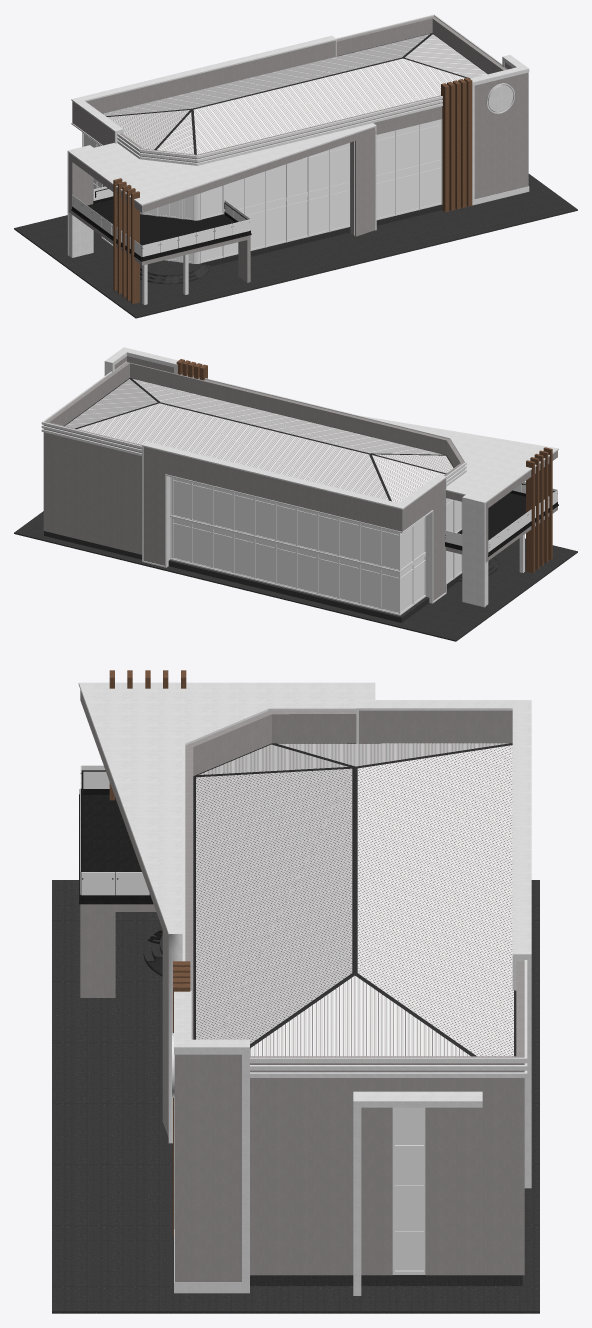
The model's file is restaurant.glb.
3 renders of one model, top to bottom at view 1: azimuth 30°, elevation 25°; view 2: azimuth 150°, elevation 25°; view 3: azimuth 270°, elevation 25°, orthographic. The views are drawn at different scales.
Visible parts, largest first — view 1: base, roof.001, glass, walls.007, walls, walls.005, walls.004, window, roof.002, wood, walls.002, wood.001 (+11 smaller); view 2: glass, roof.001, walls, walls.007, walls.004, walls.006, base, window, roof.002, wood.001, base.002, walls.002 (+7 smaller); view 3: roof.001, base, walls.006, walls, walls.004, walls.005, roof.002, walls.007, walls.002, walls.001, roof, glass (+6 smaller).
Boxes of the visible parts, x1,y1,x2,y2 form: base: (14, 174, 577, 318); roof.001: (103, 34, 464, 154); glass: (84, 125, 440, 261); walls.007: (68, 41, 374, 282); walls: (67, 35, 376, 255); walls.005: (474, 62, 528, 199); walls.004: (119, 16, 506, 162); window: (82, 119, 442, 263); roof.002: (107, 34, 487, 154); wood: (441, 77, 472, 212); walls.002: (117, 14, 507, 165); wood.001: (113, 178, 139, 303); glass: (173, 481, 461, 612); roof.001: (77, 378, 442, 500); walls: (142, 415, 558, 607); walls.007: (143, 447, 557, 600); walls.004: (43, 362, 464, 498); walls.006: (43, 445, 141, 554); base: (14, 511, 577, 641); window: (170, 477, 462, 613); roof.002: (65, 379, 453, 502); wood.001: (526, 447, 552, 572); base.002: (44, 531, 462, 622); walls.002: (41, 361, 466, 486); roof.001: (196, 745, 513, 1056); base: (52, 880, 539, 1313); walls.006: (250, 1103, 524, 1275); walls: (78, 682, 531, 1188); walls.004: (185, 710, 524, 1103); walls.005: (174, 1054, 241, 1282); roof.002: (199, 743, 508, 1056); walls.007: (80, 690, 512, 1137); walls.002: (182, 707, 527, 1077); walls.001: (174, 990, 249, 1293); roof: (193, 743, 516, 1056); glass: (395, 1107, 423, 1270).
Bounding box in the file's own units: 37.73 × 10.3 × 18.03.
Materials: 11 (6 with a texture image).
